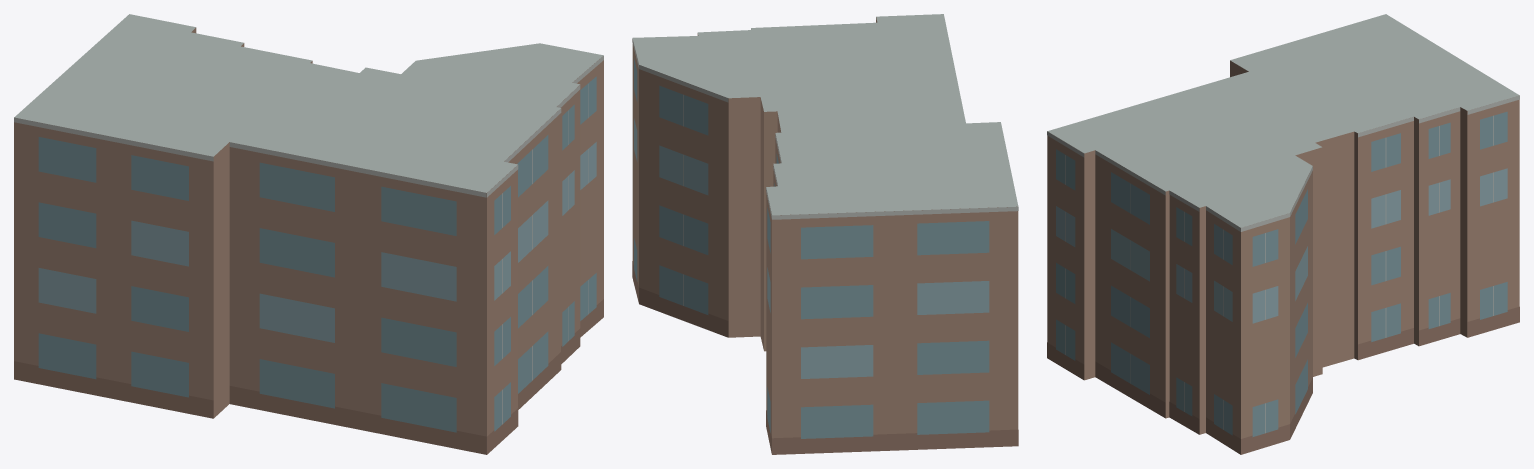
File: survey-upis-32668582.glb
3 views of the same model, side by side, from view 1: azimuth 30°, elevation 25°; view 2: azimuth 150°, elevation 25°; view 3: azimuth 270°, elevation 25° (orthographic). The views are drawn at different scales.
Visible parts, largest first — view 1: survey-upis-32668582.tmp; view 2: survey-upis-32668582.tmp; view 3: survey-upis-32668582.tmp.
Boxes of the visible parts, x1=… form: survey-upis-32668582.tmp: x1=14, y1=14, x2=603, y2=454; survey-upis-32668582.tmp: x1=632, y1=14, x2=1018, y2=454; survey-upis-32668582.tmp: x1=1047, y1=14, x2=1519, y2=454.
Size of the model in its own units: 26.89 by 13.3 by 25.11.
